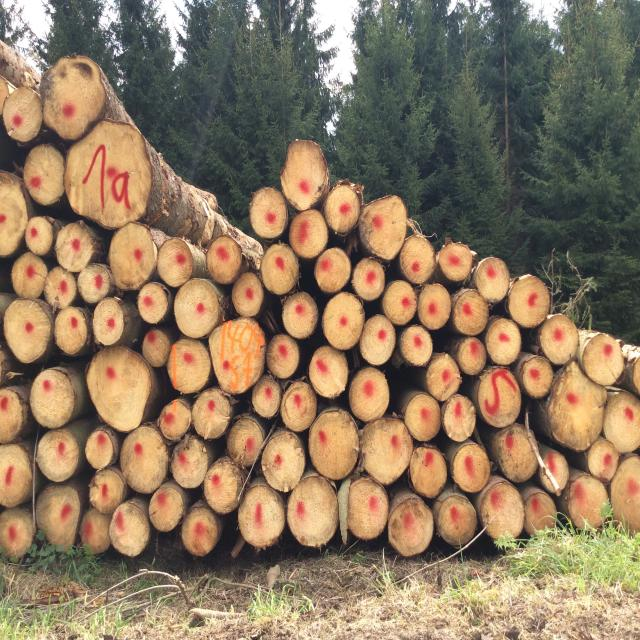wood-log: (66, 123, 154, 231), (84, 345, 152, 430), (544, 361, 607, 448), (43, 55, 107, 138), (209, 318, 266, 394), (359, 412, 413, 483), (311, 411, 364, 482), (287, 474, 338, 546), (358, 195, 412, 260), (279, 140, 329, 210), (121, 424, 171, 493), (0, 296, 52, 361), (111, 225, 161, 292), (36, 482, 85, 550), (236, 482, 284, 547), (480, 479, 525, 545), (488, 426, 538, 484), (174, 280, 223, 339), (262, 432, 307, 494), (562, 471, 609, 530), (476, 365, 522, 425), (0, 172, 32, 258), (28, 366, 73, 426), (390, 497, 435, 556), (25, 143, 67, 204), (348, 476, 388, 540), (323, 292, 366, 350), (582, 331, 626, 386), (202, 458, 245, 514), (0, 87, 42, 144), (35, 429, 80, 482), (167, 338, 210, 393), (110, 499, 150, 557), (347, 365, 389, 420), (437, 492, 478, 548), (509, 274, 552, 327), (612, 454, 640, 534), (604, 390, 640, 452), (226, 414, 267, 468), (0, 442, 34, 507), (538, 313, 581, 364), (56, 221, 98, 273), (168, 436, 210, 488), (324, 184, 366, 236), (250, 188, 291, 240), (180, 504, 220, 556), (260, 244, 300, 296), (452, 439, 491, 492), (409, 444, 448, 497), (193, 389, 233, 440), (312, 344, 351, 396), (290, 210, 330, 260), (0, 508, 35, 562), (281, 380, 318, 431), (204, 238, 243, 286), (424, 351, 462, 400), (404, 393, 442, 442), (400, 235, 438, 284), (156, 240, 194, 289), (358, 316, 395, 366), (12, 253, 50, 301), (54, 306, 91, 355), (151, 481, 187, 531), (485, 318, 522, 366), (281, 292, 318, 340), (442, 394, 478, 443), (474, 256, 509, 304), (90, 468, 128, 512), (316, 249, 353, 294), (453, 290, 489, 336), (417, 284, 452, 331), (382, 279, 418, 324), (93, 297, 126, 346), (231, 270, 265, 317), (439, 241, 477, 283), (518, 356, 554, 400), (80, 509, 114, 555), (267, 334, 301, 379), (523, 491, 555, 538), (158, 398, 192, 442), (43, 266, 77, 309), (352, 259, 386, 301), (400, 325, 434, 367), (0, 386, 25, 443), (252, 374, 284, 418), (540, 450, 572, 494), (587, 438, 619, 480), (137, 281, 169, 323), (80, 264, 113, 304), (86, 429, 118, 470), (142, 328, 174, 368), (455, 336, 487, 375), (26, 216, 56, 256), (0, 343, 19, 386), (0, 76, 9, 114), (632, 356, 640, 394)
